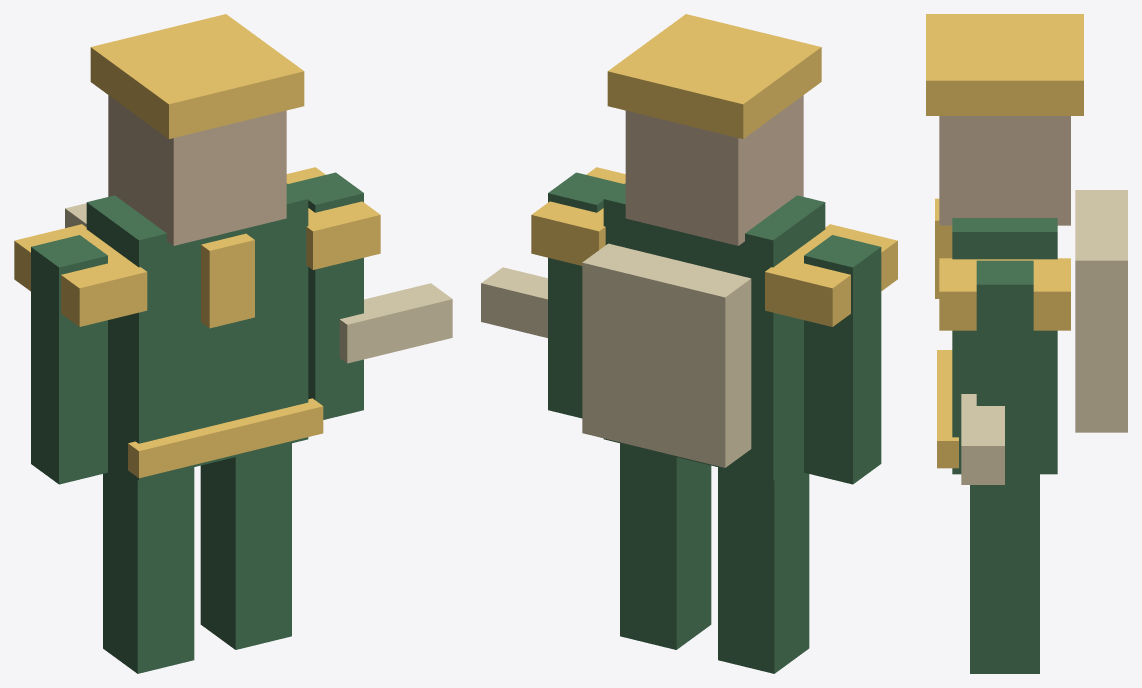
File: 15_ossa_brightlock_responder_of_bridge.glb
3 renders of one model, left to right at view 1: azimuth 30°, elevation 25°; view 2: azimuth 150°, elevation 25°; view 3: azimuth 270°, elevation 25°, orthographic.
Parts seen in each view (by area): view 1: Ossa Brightlock, Responder of Bridge; view 2: Ossa Brightlock, Responder of Bridge; view 3: Ossa Brightlock, Responder of Bridge.
Boxes of the visible parts, x1=… form: Ossa Brightlock, Responder of Bridge: x1=14, y1=14, x2=452, y2=673; Ossa Brightlock, Responder of Bridge: x1=481, y1=14, x2=897, y2=673; Ossa Brightlock, Responder of Bridge: x1=926, y1=14, x2=1127, y2=673.
Size of the model in its own units: 1.01 by 1.46 by 0.4547.
